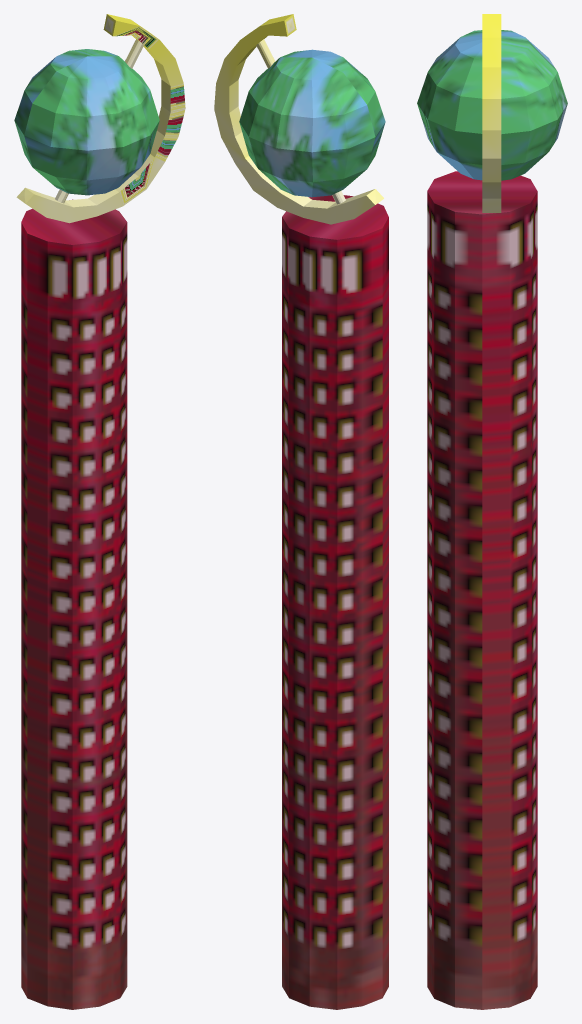
The model's file is Bank.glb.
3 renders of one model, left to right at view 1: azimuth 30°, elevation 25°; view 2: azimuth 150°, elevation 25°; view 3: azimuth 270°, elevation 25°, orthographic. The views are drawn at different scales.
Parts seen in each view (by area): view 1: Bank; view 2: Bank; view 3: Bank.
Part boxes in pixels (box(x1,y1,x2,y2)): Bank: box(14, 14, 185, 1009); Bank: box(214, 14, 388, 1009); Bank: box(417, 14, 567, 1009).
Size of the model in its own units: 184 by 1051 by 144.
1 material, 1 textured.
